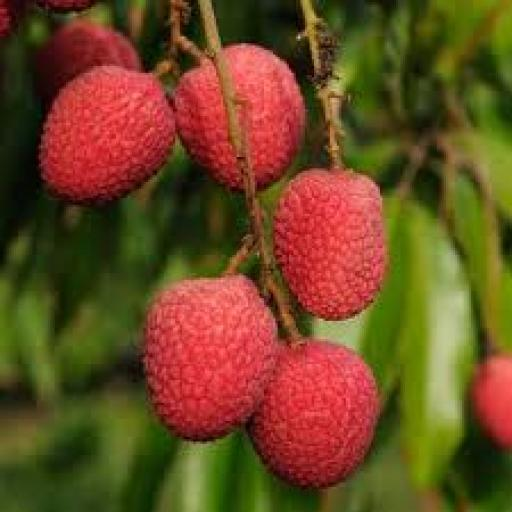lychee: (144, 276, 279, 441), (249, 340, 380, 486), (39, 66, 175, 204), (276, 169, 386, 318), (226, 44, 304, 188), (35, 21, 141, 102), (472, 355, 511, 448), (0, 0, 27, 38), (37, 0, 95, 13)
